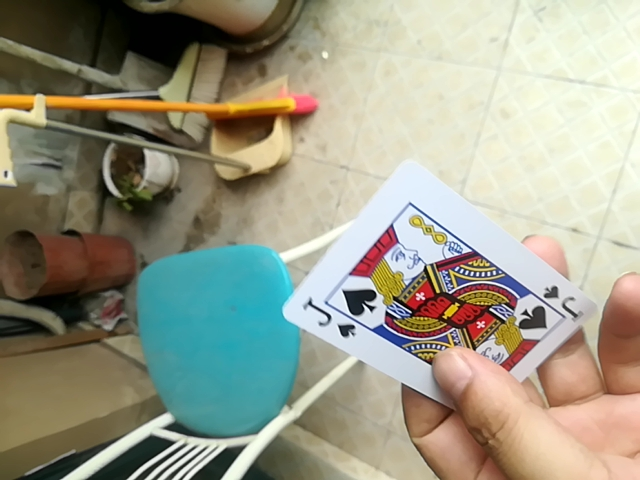ht j: (279, 166, 588, 406)
